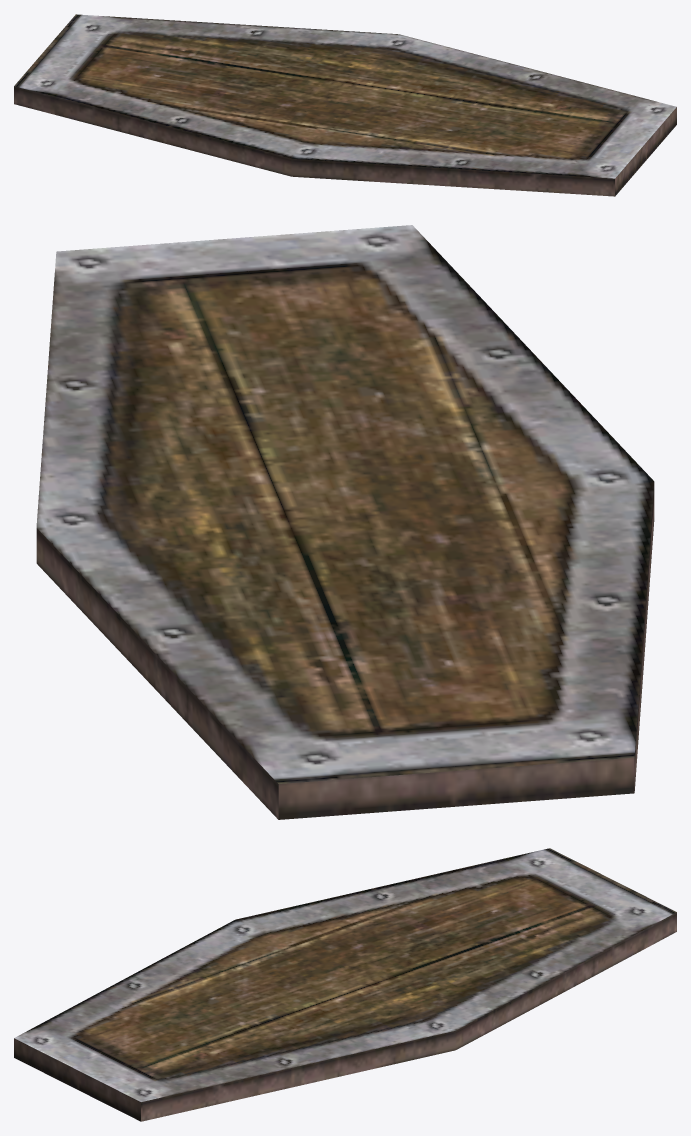
3 renders of one model, top to bottom at view 1: azimuth 30°, elevation 25°; view 2: azimuth 150°, elevation 25°; view 3: azimuth 270°, elevation 25°, orthographic. The views are drawn at different scales.
Parts seen in each view (by area): view 1: ms8-col; view 2: ms8-col; view 3: ms8-col.
Part boxes in pixels (<box>): ms8-col: <box>14,14,676,196</box>; ms8-col: <box>36,225,654,819</box>; ms8-col: <box>14,848,676,1121</box>.
Size of the model in its own units: 0.8549 by 0.0308 by 0.9428.
1 material, 1 textured.
